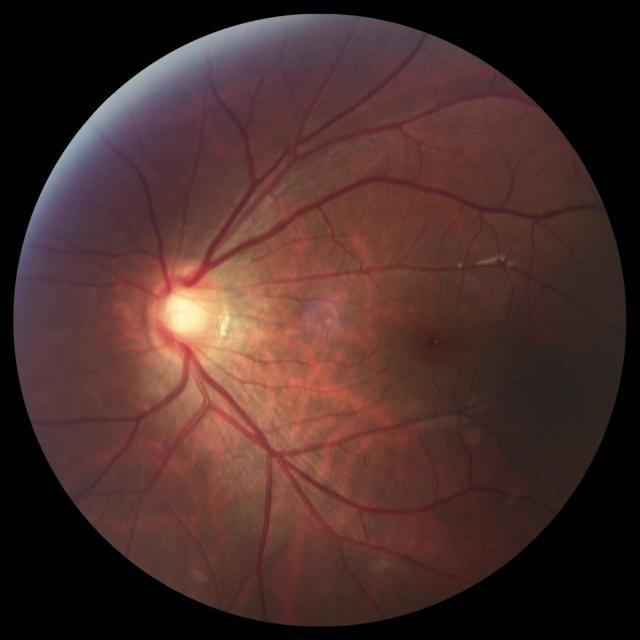OC: (161, 290, 206, 333)
OD: (148, 270, 228, 362)
